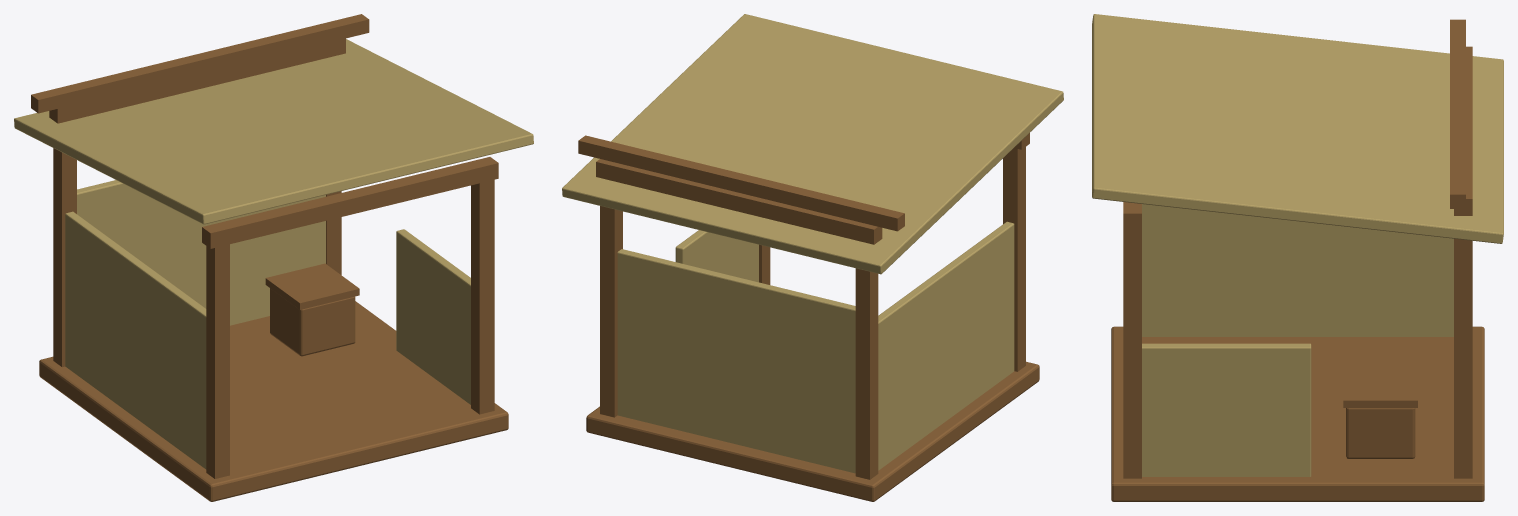
Rendered from prop_shelter.glb.
The picture shows the model from 3 angles, left to right: view 1: azimuth 30°, elevation 25°; view 2: azimuth 150°, elevation 25°; view 3: azimuth 270°, elevation 25°; orthographic projection. The views are drawn at different scales.
Visible parts, largest first — view 1: prop_shelter; view 2: prop_shelter; view 3: prop_shelter.
Boxes of the visible parts, left/top/right/bottom form: prop_shelter: left=14, top=14, right=533, bottom=501; prop_shelter: left=562, top=14, right=1063, bottom=501; prop_shelter: left=1092, top=14, right=1503, bottom=501.
Size of the model in its own units: 3.1 by 2.67 by 3.09.
